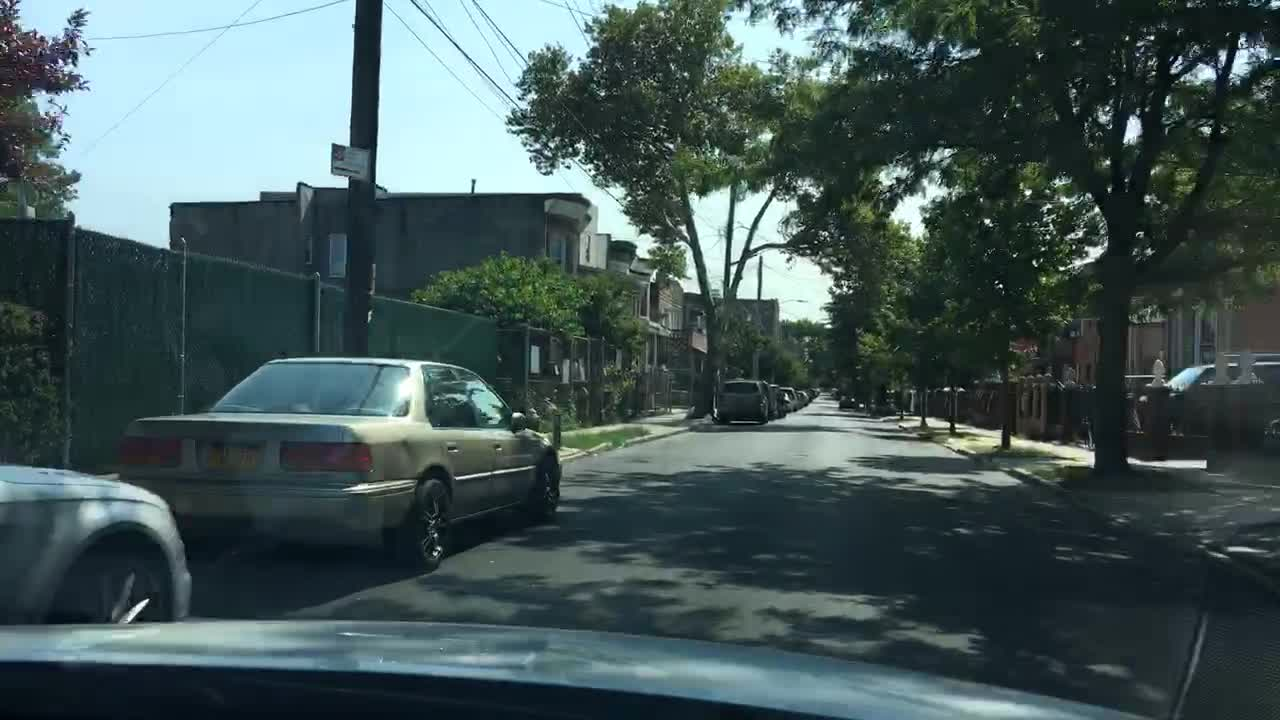car: (116, 356, 564, 570), (0, 461, 192, 627), (1126, 359, 1280, 448), (713, 378, 770, 427), (762, 381, 787, 418), (779, 385, 804, 408), (837, 393, 862, 410), (793, 389, 807, 408), (810, 385, 822, 398), (801, 389, 813, 399)
traffic sign: (331, 144, 372, 180), (1008, 339, 1031, 356)
